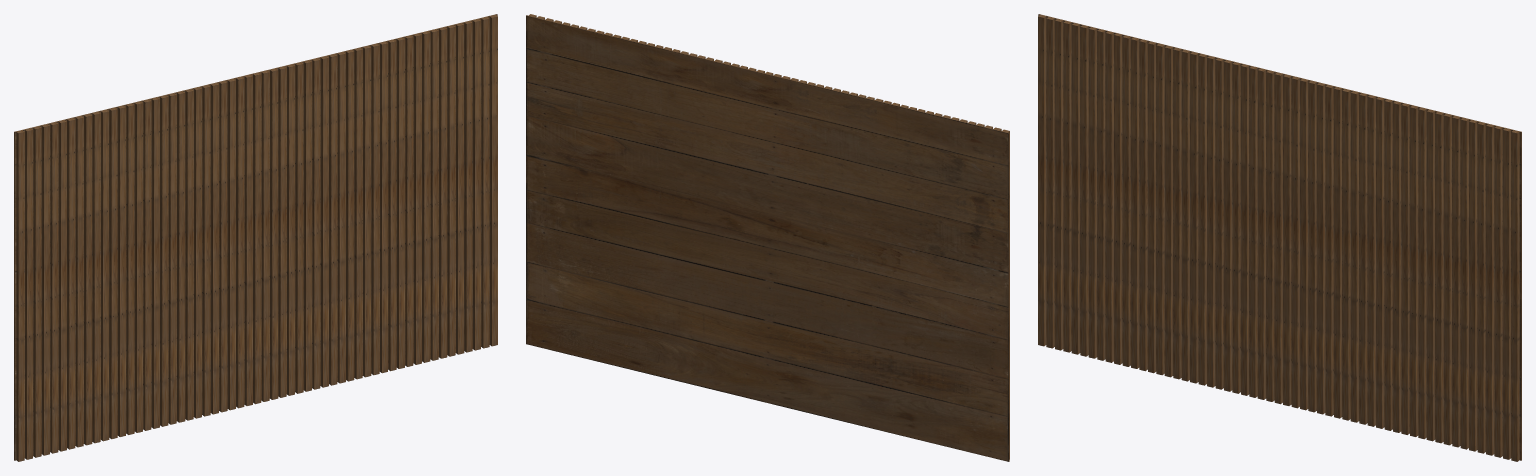
The model's file is painel_ripado_400x260.glb.
3 renders of one model, left to right at view 1: azimuth 30°, elevation 25°; view 2: azimuth 150°, elevation 25°; view 3: azimuth 330°, elevation 25°, orthographic.
Visible parts, largest first — view 1: painel_ripado_400x260; view 2: painel_ripado_400x260; view 3: painel_ripado_400x260.
Part boxes in pixels (<box>): painel_ripado_400x260: <box>14,14,497,461</box>; painel_ripado_400x260: <box>526,14,1009,461</box>; painel_ripado_400x260: <box>1038,14,1521,461</box>.
Size of the model in its own units: 4 by 2.6 by 0.04.
Materials: 2 (2 with a texture image).
